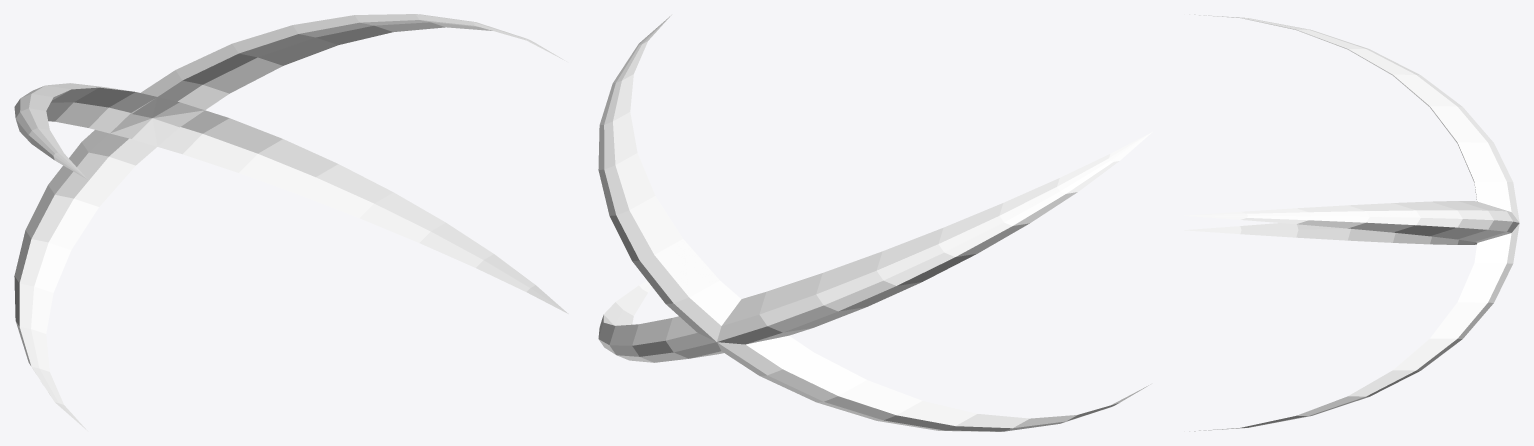
The model's file is attack.obj.
3 views of the same model, side by side, from view 1: azimuth 30°, elevation 25°; view 2: azimuth 150°, elevation 25°; view 3: azimuth 270°, elevation 25° (orthographic). The views are drawn at different scales.
Visible parts, largest first — view 1: 球.001; view 2: 球.001; view 3: 球.001.
Part boxes in pixels (box(x1,y1,x2,y2)): 球.001: box(14, 14, 568, 430); 球.001: box(598, 15, 1152, 431); 球.001: box(1184, 14, 1519, 431).
Bounding box in the file's own units: 1.06 × 0.5305 × 0.75.
1 material, 1 textured.
